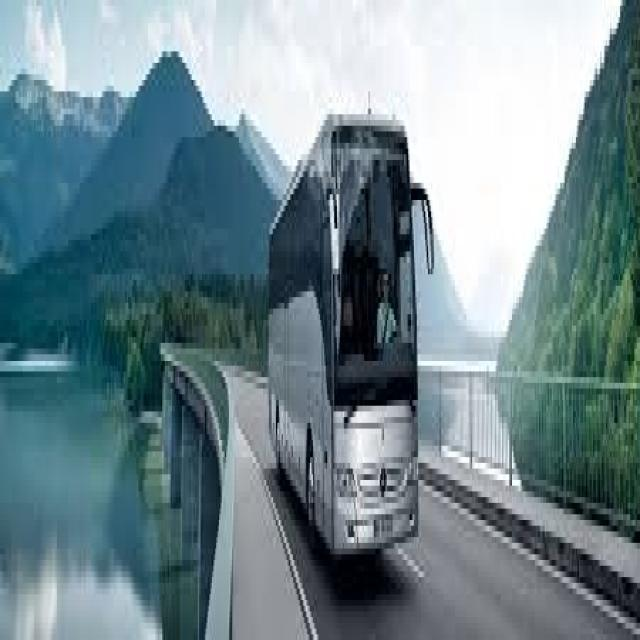bus: (262, 50, 446, 612)
